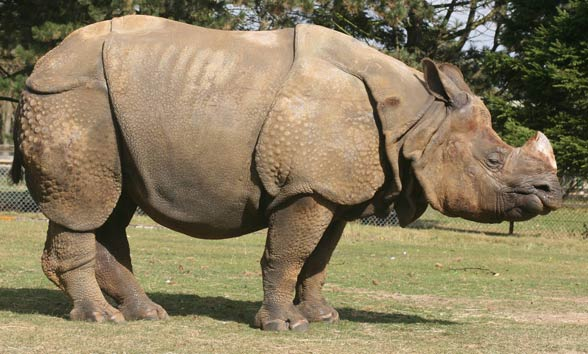rhinoceros: (11, 13, 560, 330)
